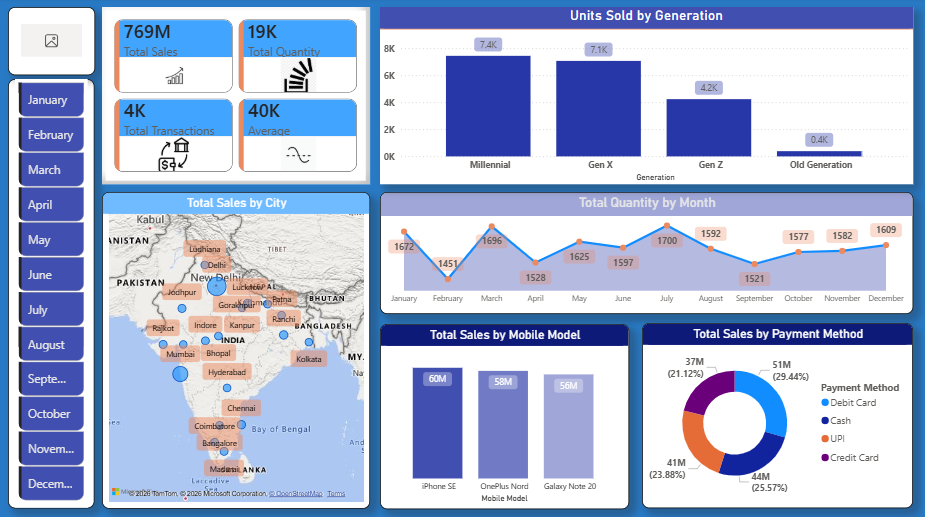

Layout of this report page (visuals, bound fields, positions):
{"tool":"powerbi","page":{"name":"Page 1","canvas":[1280,720],"ordinal":0},"visuals":[{"type":"shape","box":[14.3,111.4,118.6,591.4],"z":0},{"type":"shape","box":[13.8,12.4,119.7,93.6],"z":1000},{"type":"image","box":[31.7,35.8,84,45.4],"z":2000},{"type":"advancedSlicerVisual","fields":{"Values":["sales_data.Date.Variation.Date Hierarchy.Month"]},"box":[23.4,111.5,100.5,590.5],"z":3000},{"type":"cardVisual","fields":{"Data":["sales_data.Total Sales","sales_data.Total Quantity","sales_data.Total Transactions","sales_data.Average"]},"box":[142.9,12.9,368.6,244.3],"z":4000},{"type":"map","fields":{"Category":["sales_data.City"],"Size":["sales_data.Total Sales"]},"box":[143.1,267,368.9,436.3],"z":5000},{"type":"lineChart","fields":{"Category":["sales_data.Date.Variation.Date Hierarchy.Month","sales_data.Date.Variation.Date Hierarchy.Day"],"Y":["sales_data.Total Quantity"]},"box":[525.8,267,733.6,167.9],"z":6000},{"type":"clusteredColumnChart","fields":{"Category":["sales_data.Mobile Model"],"Y":["sales_data.Total Sales"]},"box":[525.8,448.7,342.7,254.6],"z":7000},{"type":"donutChart","fields":{"Y":["sales_data.Total Sales"],"Category":["sales_data.Payment Method"]},"box":[886.4,447.3,373,254.6],"z":8000},{"type":"clusteredColumnChart","title":"Units Sold by Generation","fields":{"Category":["sales_data.Generation"],"Y":["sales_data.Total Quantity"]},"box":[525.8,12.4,733.6,243.6],"z":9000}]}

Visuals, with their boxes in screenshot pixels (x1, y1, x2, y2), scaled from the page's 1280x720 canvas onto the 925x517 screenshot:
shape: x1=10 y1=80 x2=96 y2=505
shape: x1=10 y1=9 x2=96 y2=76
image: x1=23 y1=26 x2=84 y2=58
advancedSlicerVisual - sales_data.Date.Variation.Date Hierarchy.Month: x1=17 y1=80 x2=90 y2=504
cardVisual - sales_data.Total Sales x sales_data.Total Quantity: x1=103 y1=9 x2=370 y2=185
map - sales_data.City x sales_data.Total Sales: x1=103 y1=192 x2=370 y2=505
lineChart - sales_data.Date.Variation.Date Hierarchy.Month x sales_data.Date.Variation.Date Hierarchy.Day: x1=380 y1=192 x2=910 y2=312
clusteredColumnChart - sales_data.Mobile Model x sales_data.Total Sales: x1=380 y1=322 x2=628 y2=505
donutChart - sales_data.Total Sales x sales_data.Payment Method: x1=641 y1=321 x2=910 y2=504
"Units Sold by Generation" clusteredColumnChart: x1=380 y1=9 x2=910 y2=184
